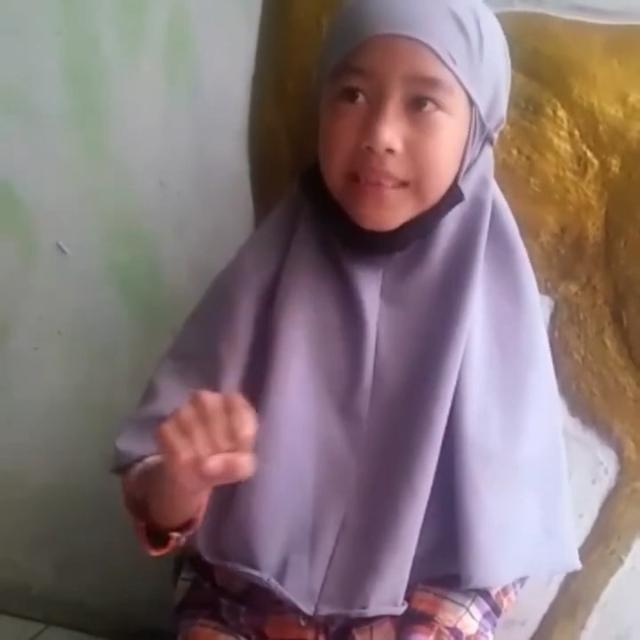S: (151, 380, 263, 490)
